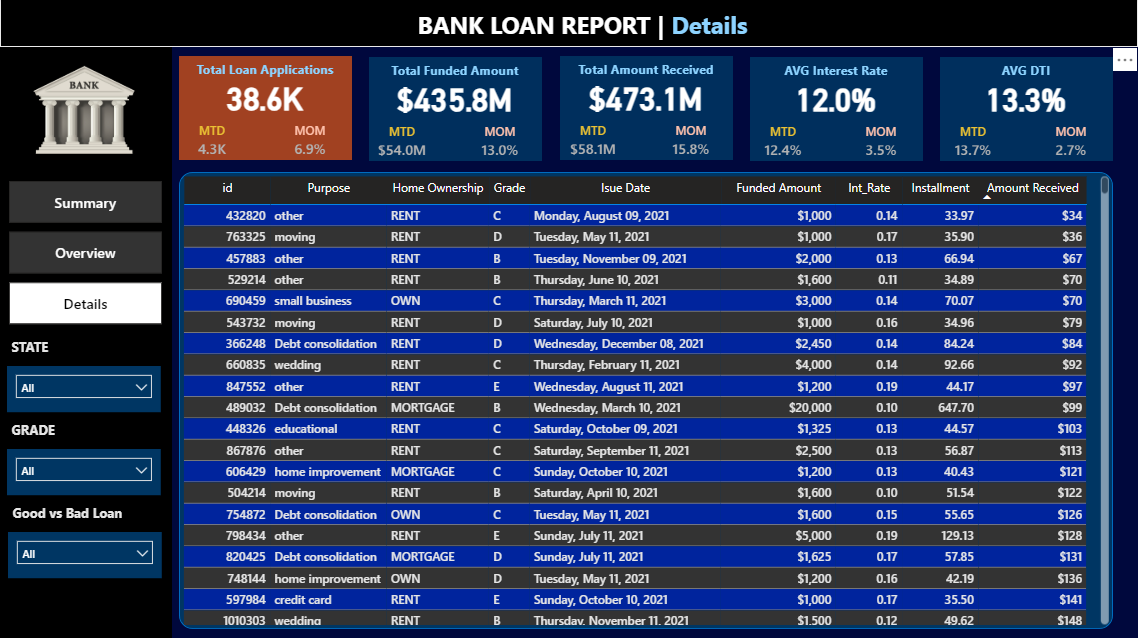

Layout of this report page (visuals, bound fields, positions):
{"tool":"powerbi","page":{"name":"Details","canvas":[1280,720],"ordinal":2},"visuals":[{"type":"shape","box":[0,0,1280.2,55.1],"z":0},{"type":"shape","box":[201.1,65.2,194.6,117],"z":0,"group":"g1"},{"type":"shape","box":[629.2,65.2,194.6,117],"z":0,"group":"g3"},{"type":"shape","box":[415.2,66.4,194.6,117],"z":0,"group":"g2"},{"type":"shape","box":[843.2,66.4,194.6,117],"z":0,"group":"g4"},{"type":"shape","box":[1057.2,66.4,194.6,117],"z":0,"group":"g5"},{"type":"shape","box":[0,55.1,193.5,664.9],"z":1000},{"type":"card","fields":{"Values":["financial_loan.Total Loan Applications"]},"box":[181.1,81.3,232.9,59.6],"z":1000,"group":"g1"},{"type":"card","fields":{"Values":["financial_loan.Total Amount Received"]},"box":[609.2,81.3,232.9,59.6],"z":1000,"group":"g3"},{"type":"card","fields":{"Values":["financial_loan.Total Funded Amount"]},"box":[395.2,82.5,232.9,59.6],"z":1000,"group":"g2"},{"type":"card","fields":{"Values":["financial_loan.Avg Interest Rate"]},"box":[823.2,82.5,232.9,59.6],"z":1000,"group":"g4"},{"type":"card","fields":{"Values":["financial_loan.AVG DTI"]},"box":[1037.2,82.5,232.9,59.6],"z":1000,"group":"g5"},{"type":"textbox","box":[464.6,6.8,439.9,48.4],"z":2000},{"type":"textbox","box":[172.1,65.6,252,31.5],"z":2000,"group":"g1"},{"type":"textbox","box":[600.2,65.6,252,31.5],"z":2000,"group":"g3"},{"type":"textbox","box":[386.2,66.8,252,31.5],"z":2000,"group":"g2"},{"type":"textbox","box":[814.2,66.8,252,31.5],"z":2000,"group":"g4"},{"type":"textbox","box":[1028.2,66.8,252,31.5],"z":2000,"group":"g5"},{"type":"textbox","box":[7.9,377.4,68.6,31.5],"z":2000,"group":"g6"},{"type":"textbox","box":[7.9,470.7,68.6,31.5],"z":2000,"group":"g7"},{"type":"textbox","box":[9,563.6,172.1,31.5],"z":2000,"group":"g8"},{"type":"card","title":"MTD","fields":{"Values":["financial_loan.MTD Loan Applications"]},"box":[201.3,140.9,74.2,41.6],"z":3000,"group":"g1"},{"type":"card","title":"MTD","fields":{"Values":["financial_loan.MTD Total Amount Recieved"]},"box":[629.4,140.9,74.2,41.6],"z":3000,"group":"g3"},{"type":"card","title":"MTD","fields":{"Values":["financial_loan.MTD Funded Amount"]},"box":[415.4,142.1,74.2,41.6],"z":3000,"group":"g2"},{"type":"card","title":"MTD","fields":{"Values":["financial_loan.MTD AVG Int Rate"]},"box":[843.4,142.1,74.2,41.6],"z":3000,"group":"g4"},{"type":"card","title":"MTD","fields":{"Values":["financial_loan.MTD AVG DTI"]},"box":[1057.4,142.1,74.2,41.6],"z":3000,"group":"g5"},{"type":"shape","box":[201.4,195.8,1050.8,514.1],"z":3000},{"type":"group","id":"g1","title":"Group 1","box":[172.1,65.2,252,117],"z":4000},{"type":"card","title":"MOM","fields":{"Values":["financial_loan.MOM Loan Applications"]},"box":[311.6,140.9,74.2,41.6],"z":4000,"group":"g1"},{"type":"card","title":"MOM","fields":{"Values":["financial_loan.MOM Total Received Amount"]},"box":[739.7,140.9,74.2,41.6],"z":4000,"group":"g3"},{"type":"card","title":"MOM","fields":{"Values":["financial_loan.MOM Total Funded Amount"]},"box":[525.7,142.1,74.2,41.6],"z":4000,"group":"g2"},{"type":"card","title":"MOM","fields":{"Values":["financial_loan.MOM AVG Int Rate"]},"box":[953.7,142.1,74.2,41.6],"z":4000,"group":"g4"},{"type":"card","title":"MOM","fields":{"Values":["financial_loan.MOM AVG DTI"]},"box":[1167.7,142.1,74.2,41.6],"z":4000,"group":"g5"},{"type":"group","id":"g2","title":"Group 1","box":[386.2,66.4,252,117],"z":5000},{"type":"group","id":"g3","title":"Group 1","box":[600.2,65.2,252,117],"z":6000},{"type":"group","id":"g4","title":"Group 1","box":[814.2,66.4,252,117],"z":7000},{"type":"group","id":"g5","title":"Group 1","box":[1028.2,66.4,252,117],"z":8000},{"type":"slicer","fields":{"Values":["financial_loan.address_state"]},"box":[7.9,413.9,173.2,51.8],"z":9000},{"type":"group","id":"g6","title":"Group 1","box":[7.9,377.4,68.6,31.5],"z":10000},{"type":"slicer","fields":{"Values":["financial_loan.grade"]},"box":[7.9,507.2,173.2,51.8],"z":11000},{"type":"group","id":"g7","title":"Group 1","box":[7.9,470.7,68.6,31.5],"z":12000},{"type":"slicer","fields":{"Values":["financial_loan.Good vs Bad Loan"]},"box":[8.9,600.5,173.2,51.8],"z":13000},{"type":"group","id":"g8","title":"Group 1","box":[9,563.6,172.1,31.5],"z":14000},{"type":"tableEx","fields":{"Values":["financial_loan.id","financial_loan.purpose","financial_loan.home_ownership","financial_loan.grade","financial_loan.issue_date","financial_loan.Total Funded Amount","Sum(financial_loan.int_rate)","Sum(financial_loan.installment)","financial_loan.Total Amount Received"]},"box":[201.4,195.8,1050.8,514.1],"z":15000},{"type":"pageNavigator","box":[10.1,205.9,172.1,163.1],"z":16000},{"type":"image","box":[32.6,66.4,123.8,118.1],"z":17000}]}

Visuals, with their boxes in screenshot pixels (x1, y1, x2, y2), scaled from the page's 1280x720 canvas onto the 1138x638 screenshot:
shape: [0, 0, 1137, 49]
shape: [179, 58, 352, 161]
shape: [559, 58, 732, 161]
shape: [369, 59, 542, 163]
shape: [750, 59, 923, 163]
shape: [940, 59, 1113, 163]
shape: [0, 49, 172, 637]
card - financial_loan.Total Loan Applications: [161, 72, 368, 125]
card - financial_loan.Total Amount Received: [542, 72, 749, 125]
card - financial_loan.Total Funded Amount: [351, 73, 558, 126]
card - financial_loan.Avg Interest Rate: [732, 73, 939, 126]
card - financial_loan.AVG DTI: [922, 73, 1129, 126]
textbox: [413, 6, 804, 49]
textbox: [153, 58, 377, 86]
textbox: [534, 58, 758, 86]
textbox: [343, 59, 567, 87]
textbox: [724, 59, 948, 87]
textbox: [914, 59, 1137, 87]
textbox: [7, 334, 68, 362]
textbox: [7, 417, 68, 445]
textbox: [8, 499, 161, 527]
"MTD" card: [179, 125, 245, 162]
"MTD" card: [560, 125, 626, 162]
"MTD" card: [369, 126, 435, 163]
"MTD" card: [750, 126, 816, 163]
"MTD" card: [940, 126, 1006, 163]
shape: [179, 174, 1113, 629]
"Group 1" group: [153, 58, 377, 161]
"MOM" card: [277, 125, 343, 162]
"MOM" card: [658, 125, 724, 162]
"MOM" card: [467, 126, 533, 163]
"MOM" card: [848, 126, 914, 163]
"MOM" card: [1038, 126, 1104, 163]
"Group 1" group: [343, 59, 567, 163]
"Group 1" group: [534, 58, 758, 161]
"Group 1" group: [724, 59, 948, 163]
"Group 1" group: [914, 59, 1137, 163]
slicer - financial_loan.address_state: [7, 367, 161, 413]
"Group 1" group: [7, 334, 68, 362]
slicer - financial_loan.grade: [7, 449, 161, 495]
"Group 1" group: [7, 417, 68, 445]
slicer - financial_loan.Good vs Bad Loan: [8, 532, 162, 578]
"Group 1" group: [8, 499, 161, 527]
tableEx - financial_loan.id x financial_loan.purpose: [179, 174, 1113, 629]
pageNavigator: [9, 182, 162, 327]
image: [29, 59, 139, 163]
